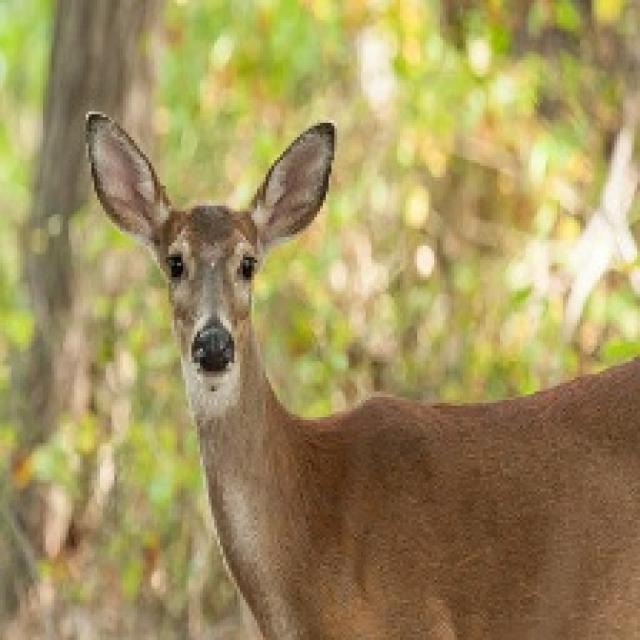bear: (73, 42, 604, 636)
